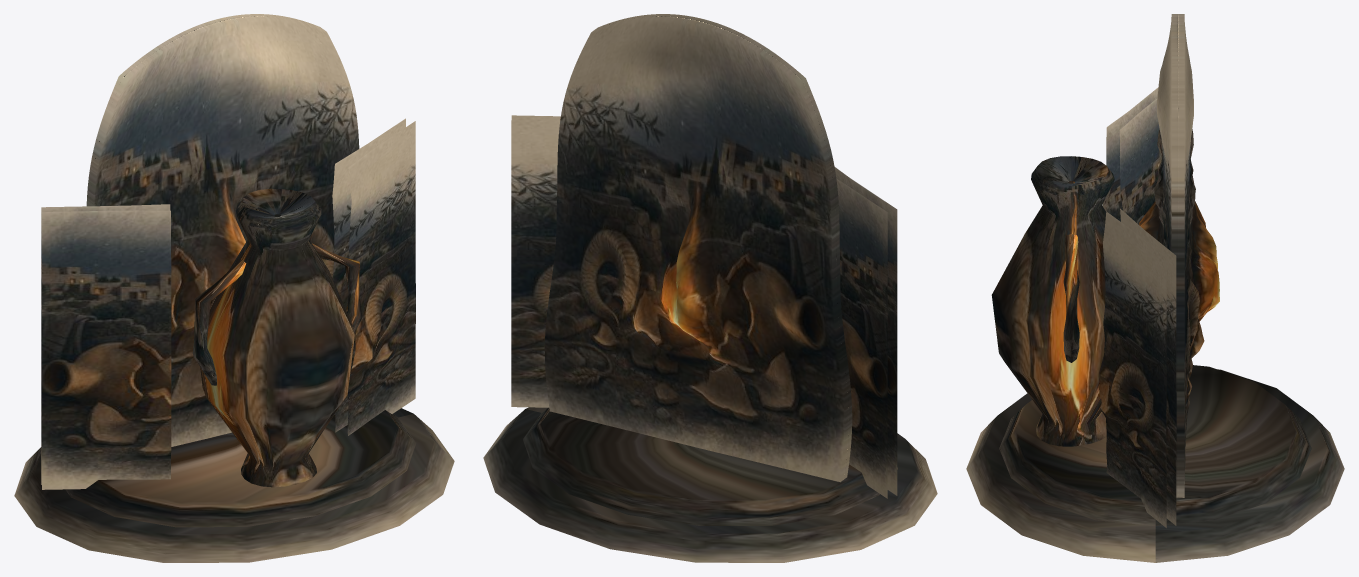
Rendered from gideon-broken-pitcher.glb.
3 renders of one model, left to right at view 1: azimuth 30°, elevation 25°; view 2: azimuth 150°, elevation 25°; view 3: azimuth 270°, elevation 25°, orthographic. The views are drawn at different scales.
Visible parts, largest first — view 1: PaintingSculptureMonument; view 2: PaintingSculptureMonument; view 3: PaintingSculptureMonument.
Boxes of the visible parts, x1,y1,x2,y2 form: PaintingSculptureMonument: [14, 14, 454, 562]; PaintingSculptureMonument: [483, 14, 937, 562]; PaintingSculptureMonument: [966, 14, 1344, 562].
Size of the model in its own units: 2.76 by 2.99 by 2.35.
1 material, 1 textured.
